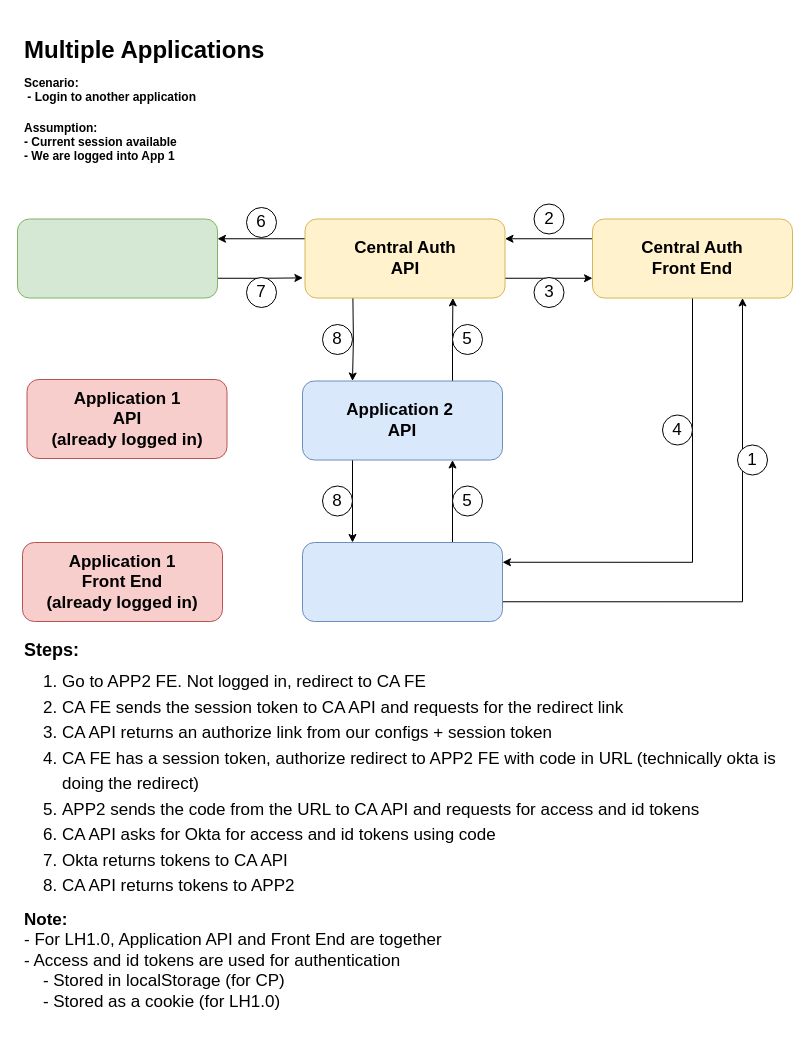
Image size: 810x1051. Some labels were removed from this diagram. Each missing label, with the box of its shape:
Application 2 Front End: (302, 542, 502, 622)
OKTA: (16, 218, 218, 298)
